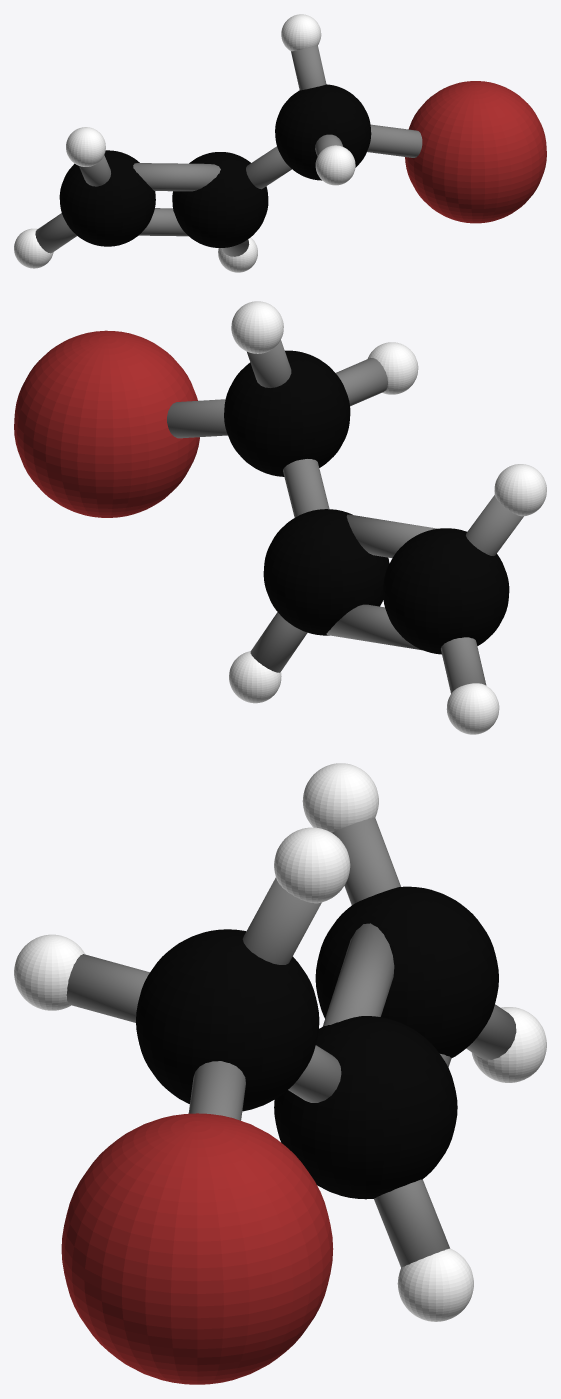
File: ALILO.obj
3 views of the same model, one above another, from view 1: azimuth 30°, elevation 25°; view 2: azimuth 150°, elevation 25°; view 3: azimuth 270°, elevation 25° (orthographic). The views are drawn at different scales.
Parts seen in each view (by area): view 1: Carbon_ball_Sphere.002, Bromine_ball_Sphere.001, Hydrogen_ball_Sphere, Stick_Cylinder.005_Cylinder.005, Stick_Cylinder.002_Cylinder.002, Stick_Cylinder_Cylinder, Stick_Cylinder.006_Cylinder.006, Stick_Cylinder.003_Cylinder.003, Stick_Cylinder.008_Cylinder.008, Stick_Cylinder.004_Cylinder.004, Stick_Cylinder.007_Cylinder.007; view 2: Carbon_ball_Sphere.002, Bromine_ball_Sphere.001, Hydrogen_ball_Sphere, Stick_Cylinder.008_Cylinder.008, Stick_Cylinder.002_Cylinder.002, Stick_Cylinder.005_Cylinder.005, Stick_Cylinder.006_Cylinder.006, Stick_Cylinder.001_Cylinder.001, Stick_Cylinder.004_Cylinder.004, Stick_Cylinder.003_Cylinder.003, Stick_Cylinder.007_Cylinder.007, Stick_Cylinder_Cylinder; view 3: Carbon_ball_Sphere.002, Bromine_ball_Sphere.001, Hydrogen_ball_Sphere, Stick_Cylinder.005_Cylinder.005, Stick_Cylinder.001_Cylinder.001, Stick_Cylinder.007_Cylinder.007, Stick_Cylinder_Cylinder, Stick_Cylinder.004_Cylinder.004, Stick_Cylinder.002_Cylinder.002, Stick_Cylinder.006_Cylinder.006, Stick_Cylinder.003_Cylinder.003.
Boxes of the visible parts, <box> form: Carbon_ball_Sphere.002: <box>59,84,371,247</box>; Bromine_ball_Sphere.001: <box>405,81,546,223</box>; Hydrogen_ball_Sphere: <box>14,14,355,272</box>; Stick_Cylinder.005_Cylinder.005: <box>133,163,220,191</box>; Stick_Cylinder.002_Cylinder.002: <box>367,124,422,157</box>; Stick_Cylinder_Cylinder: <box>291,45,326,90</box>; Stick_Cylinder.006_Cylinder.006: <box>246,146,291,189</box>; Stick_Cylinder.003_Cylinder.003: <box>35,213,76,253</box>; Stick_Cylinder.008_Cylinder.008: <box>139,208,188,236</box>; Stick_Cylinder.004_Cylinder.004: <box>79,155,110,186</box>; Stick_Cylinder.007_Cylinder.007: <box>315,134,343,156</box>; Carbon_ball_Sphere.002: <box>224,350,509,654</box>; Bromine_ball_Sphere.001: <box>14,330,199,517</box>; Hydrogen_ball_Sphere: <box>229,301,546,734</box>; Stick_Cylinder.008_Cylinder.008: <box>326,604,422,650</box>; Stick_Cylinder.002_Cylinder.002: <box>167,399,227,438</box>; Stick_Cylinder.005_Cylinder.005: <box>346,514,436,558</box>; Stick_Cylinder.006_Cylinder.006: <box>283,459,329,517</box>; Stick_Cylinder.001_Cylinder.001: <box>250,612,307,672</box>; Stick_Cylinder.004_Cylinder.004: <box>466,495,523,555</box>; Stick_Cylinder.003_Cylinder.003: <box>441,637,486,693</box>; Stick_Cylinder.007_Cylinder.007: <box>335,358,387,406</box>; Stick_Cylinder_Cylinder: <box>247,340,291,387</box>; Carbon_ball_Sphere.002: <box>136,886,498,1199</box>; Bromine_ball_Sphere.001: <box>61,1113,333,1384</box>; Hydrogen_ball_Sphere: <box>14,763,546,1321</box>; Stick_Cylinder.005_Cylinder.005: <box>323,923,394,1026</box>; Stick_Cylinder.001_Cylinder.001: <box>374,1179,449,1267</box>; Stick_Cylinder.007_Cylinder.007: <box>66,954,149,1022</box>; Stick_Cylinder_Cylinder: <box>242,877,321,964</box>; Stick_Cylinder.004_Cylinder.004: <box>332,817,400,905</box>; Stick_Cylinder.002_Cylinder.002: <box>188,1061,245,1120</box>; Stick_Cylinder.006_Cylinder.006: <box>288,1045,341,1102</box>; Stick_Cylinder.003_Cylinder.003: <box>466,1004,516,1059</box>.
Bounding box in the file's own units: 7.29 × 4.3 × 4.03.
